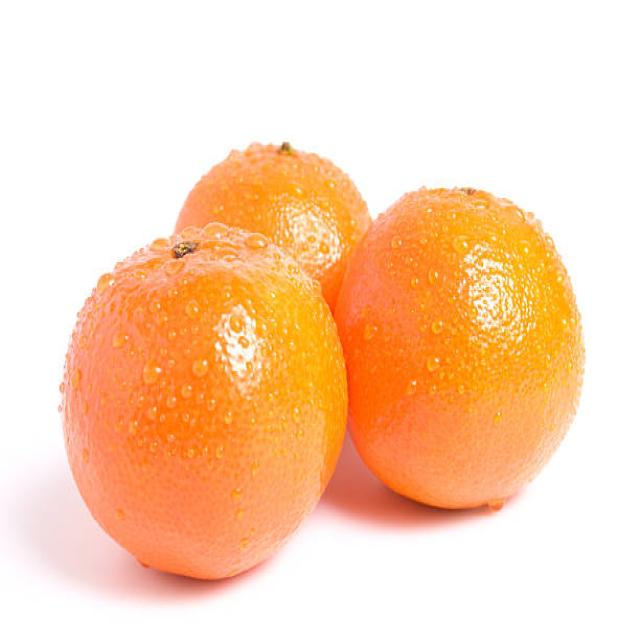Ripe: (54, 214, 345, 579), (348, 174, 588, 518)
